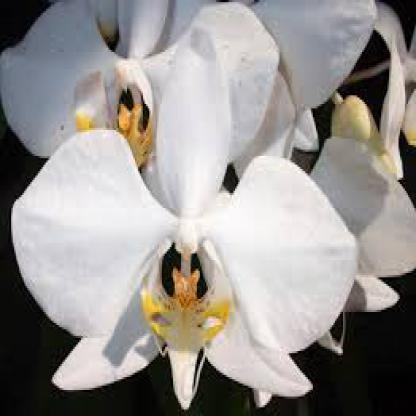ANGGREK: (10, 23, 368, 393)
